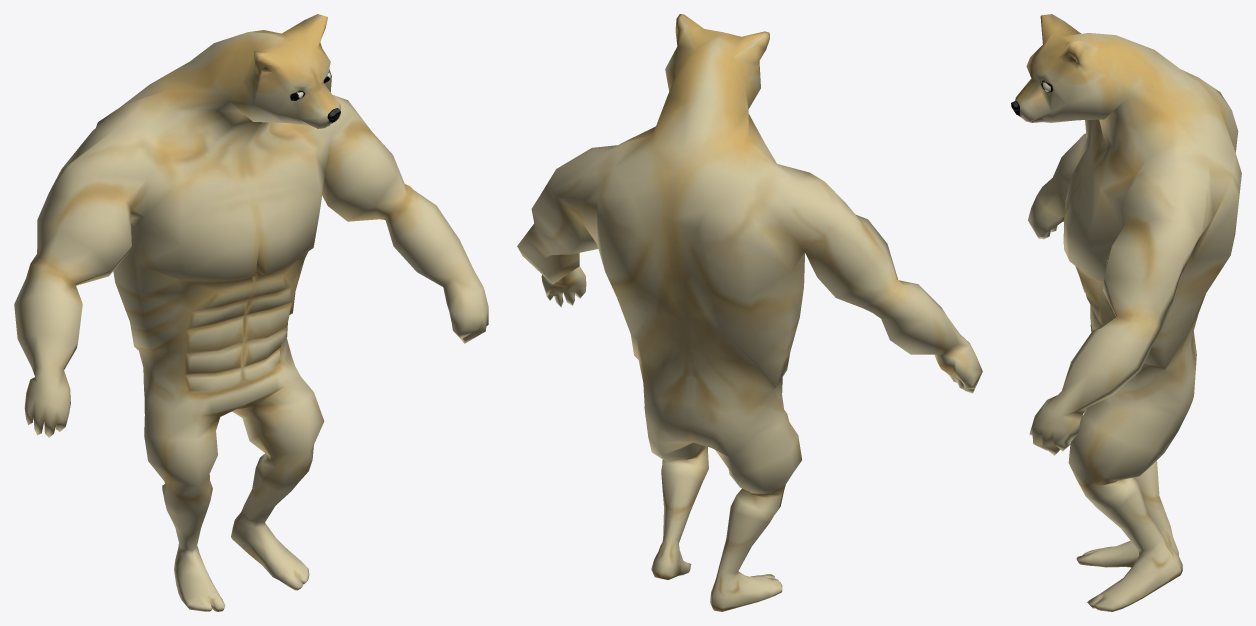
Rendered from dogeNPC2.glb.
3 renders of one model, left to right at view 1: azimuth 30°, elevation 25°; view 2: azimuth 150°, elevation 25°; view 3: azimuth 270°, elevation 25°, orthographic. The views are drawn at different scales.
Visible parts, largest first — view 1: M_uBody_BaseMesh; view 2: M_uBody_BaseMesh; view 3: M_uBody_BaseMesh.
Part boxes in pixels (x1,y1,x2,y2): M_uBody_BaseMesh: (14,14,488,611); M_uBody_BaseMesh: (517,14,982,611); M_uBody_BaseMesh: (1011,14,1241,611).
Size of the model in its own units: 1.42 by 1.7 by 0.6201.
Materials: 1 (1 with a texture image).
